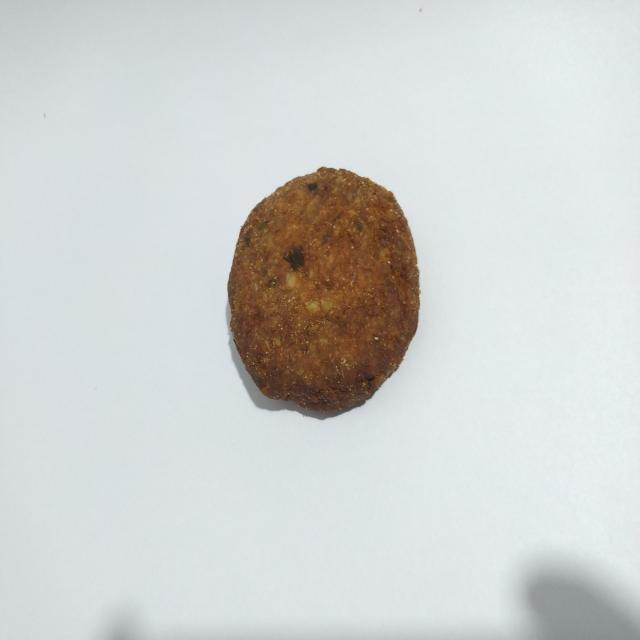Pajagua: (219, 150, 429, 436)
